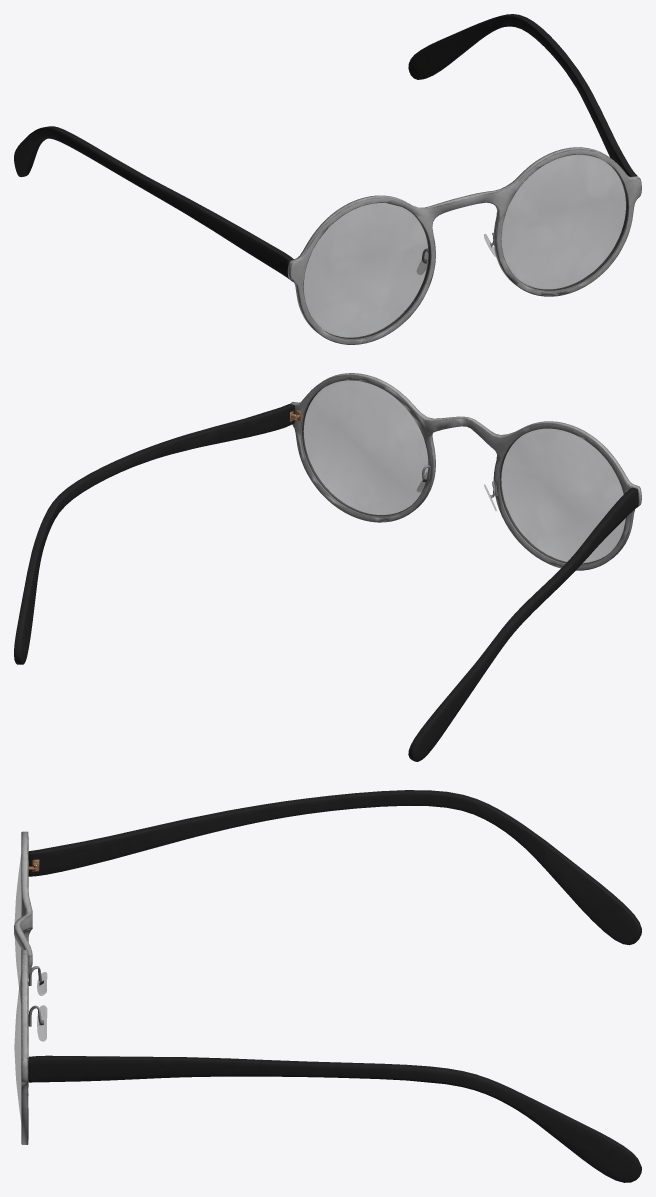
File: round_spectacles.glb
3 renders of one model, top to bottom at view 1: azimuth 30°, elevation 25°; view 2: azimuth 150°, elevation 25°; view 3: azimuth 270°, elevation 25°, orthographic. The views are drawn at different scales.
Visible parts, largest first — view 1: round_spectacles; view 2: round_spectacles; view 3: round_spectacles.
Boxes of the visible parts, box(x1,y1,x2,y2) form: round_spectacles: box(14, 14, 641, 344); round_spectacles: box(14, 373, 641, 761); round_spectacles: box(14, 790, 641, 1182).
Size of the model in its own units: 0.1578 by 0.0463 by 0.149.
Materials: 2 (2 with a texture image).
